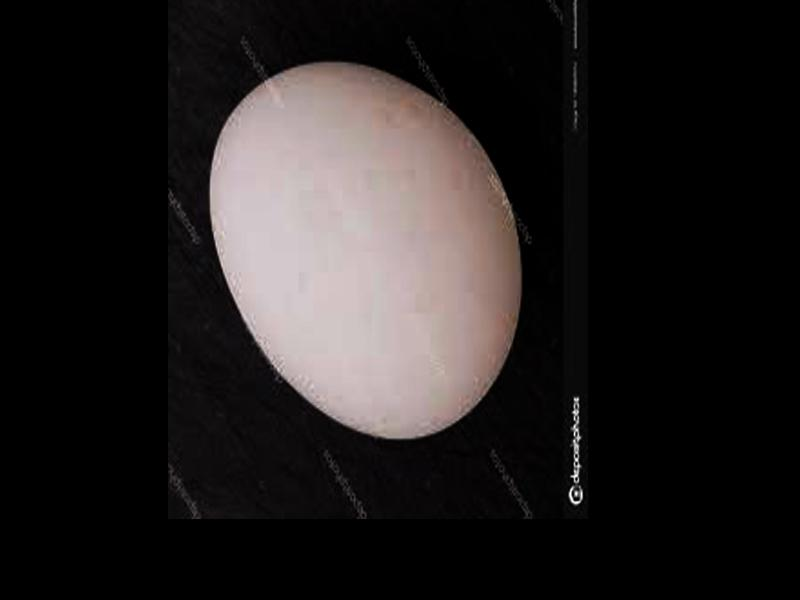Eggs: (211, 61, 523, 439)
